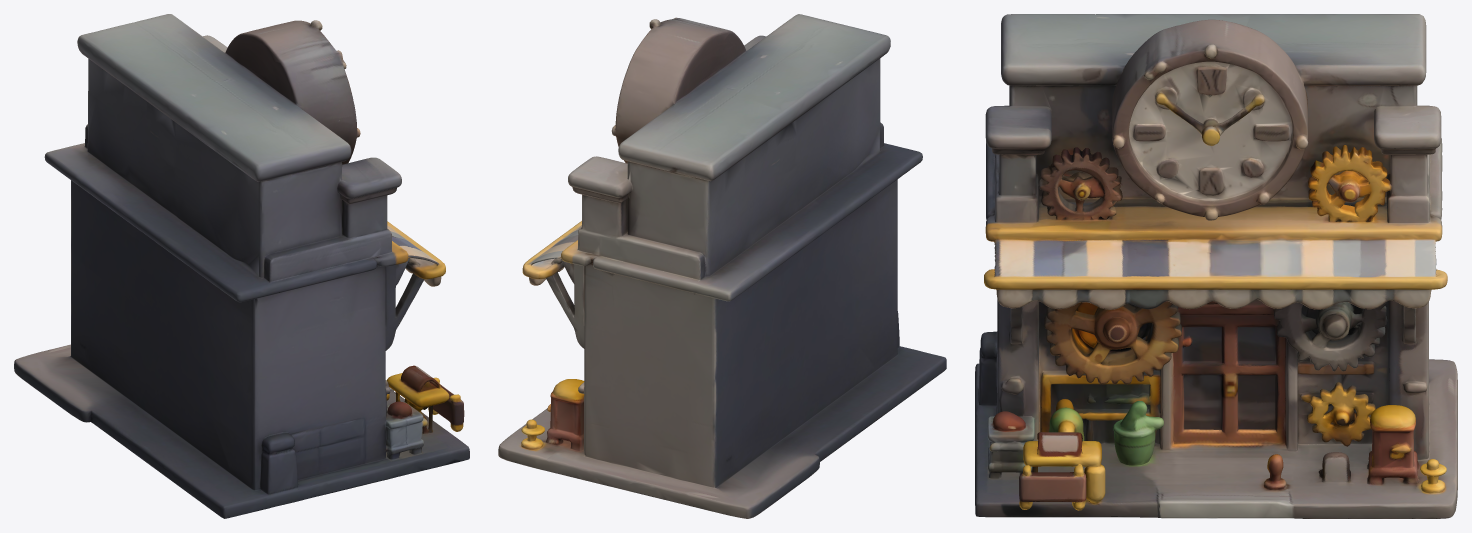
File: building-clock-shop.glb
3 views of the same model, side by side, from view 1: azimuth 30°, elevation 25°; view 2: azimuth 150°, elevation 25°; view 3: azimuth 270°, elevation 25° (orthographic). The views are drawn at different scales.
Visible parts, largest first — view 1: tripo_node_4cf8bb10-8011-4e33-8178-984ccbf3f033; view 2: tripo_node_4cf8bb10-8011-4e33-8178-984ccbf3f033; view 3: tripo_node_4cf8bb10-8011-4e33-8178-984ccbf3f033.
Part boxes in pixels (bbox=[...]): tripo_node_4cf8bb10-8011-4e33-8178-984ccbf3f033: bbox=[14, 14, 469, 518]; tripo_node_4cf8bb10-8011-4e33-8178-984ccbf3f033: bbox=[498, 14, 946, 518]; tripo_node_4cf8bb10-8011-4e33-8178-984ccbf3f033: bbox=[975, 14, 1457, 518].
Bounding box in the file's own units: 4.49 × 6 × 5.93.
1 material, 1 textured.
